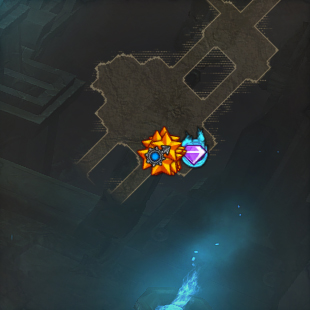Urushi: (179, 129, 209, 167)
